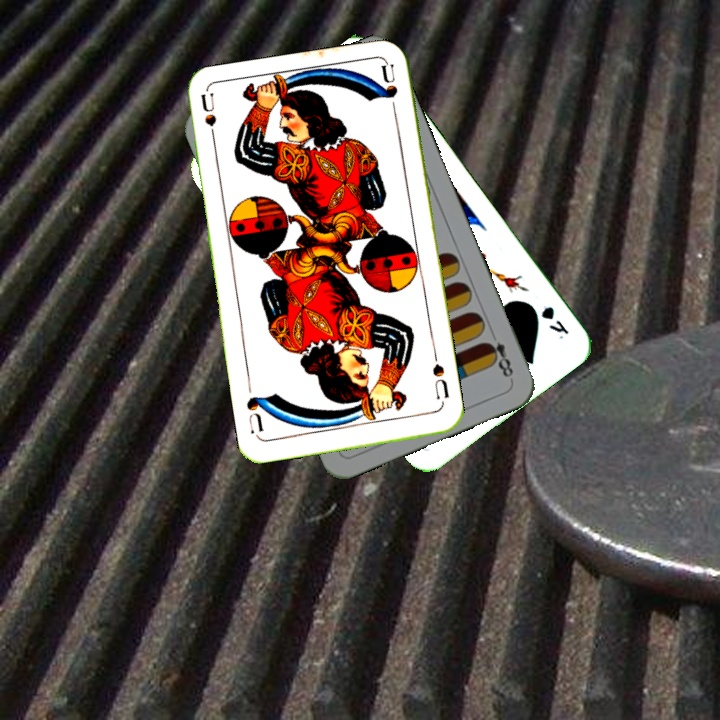E8: (481, 326, 516, 383)
GK: (537, 302, 572, 337)
SU: (428, 350, 452, 409), (197, 91, 219, 151)
